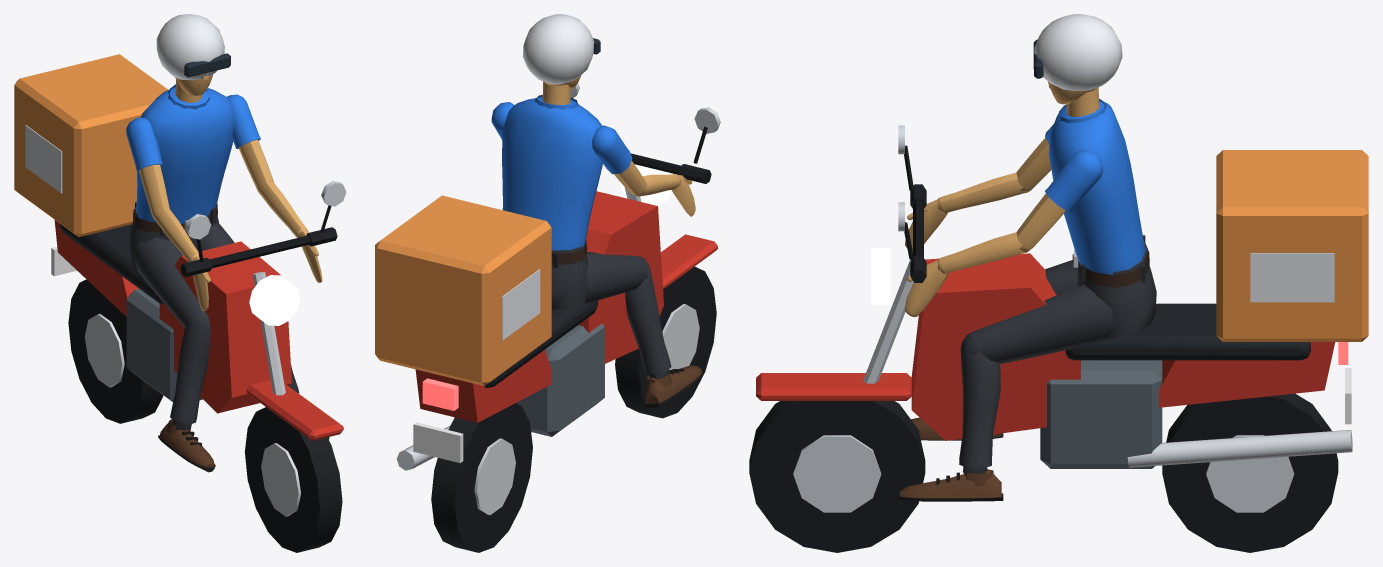
The model's file is moped.glb.
3 renders of one model, left to right at view 1: azimuth 30°, elevation 25°; view 2: azimuth 150°, elevation 25°; view 3: azimuth 270°, elevation 25°, orthographic. The views are drawn at different scales.
Visible parts, largest first — view 1: moped; view 2: moped; view 3: moped.
Boxes of the visible parts, x1,y1,x2,y2 form: moped: (14,14,346,552); moped: (375,14,720,552); moped: (749,14,1368,552).
Size of the model in its own units: 0.63 by 1.72 by 1.83.
